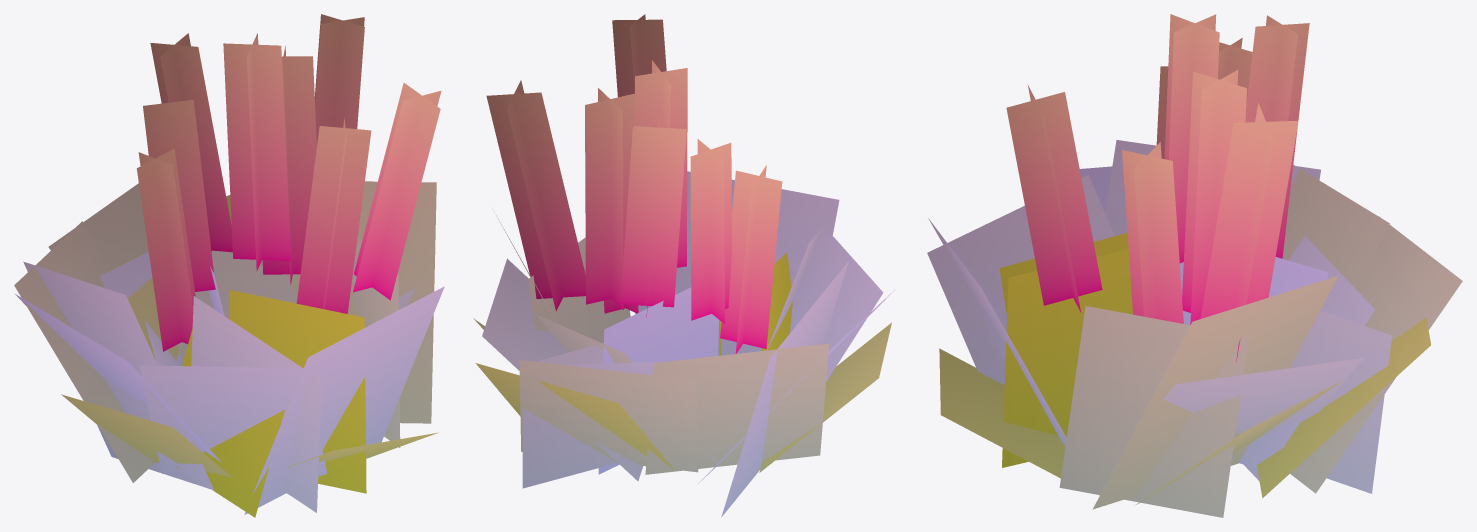
The model's file is flowers_salvia.glb.
3 views of the same model, side by side, from view 1: azimuth 30°, elevation 25°; view 2: azimuth 150°, elevation 25°; view 3: azimuth 270°, elevation 25° (orthographic). The views are drawn at different scales.
Parts seen in each view (by area): view 1: flowers_salvia; view 2: flowers_salvia; view 3: flowers_salvia.
Boxes of the visible parts, <box> form: flowers_salvia: <box>14,14,444,517</box>; flowers_salvia: <box>473,14,895,517</box>; flowers_salvia: <box>927,14,1462,517</box>.
Bounding box in the file's own units: 0.3816 × 0.3865 × 0.4087.
